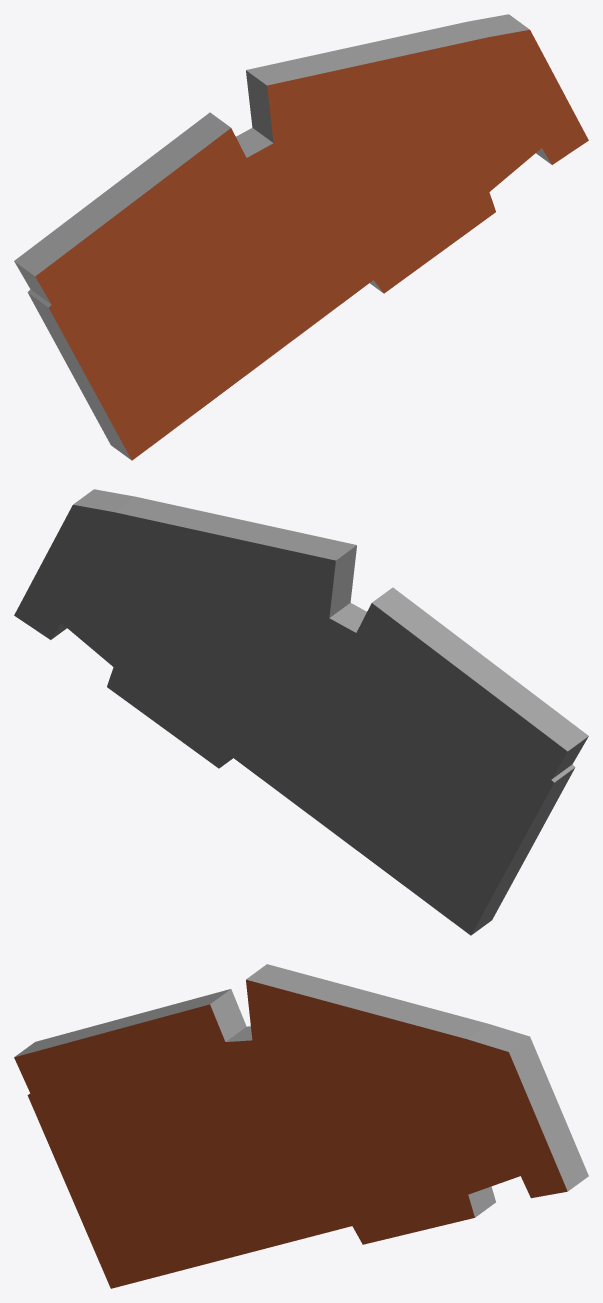
File: construction_1717_assumed_A_Casa_h6m.obj
The picture shows the model from 3 angles, top to bottom: view 1: azimuth 30°, elevation 25°; view 2: azimuth 150°, elevation 25°; view 3: azimuth 330°, elevation 25°; orthographic projection.
Parts seen in each view (by area): view 1: construction_1717_assumed_A_Casa; view 2: construction_1717_assumed_A_Casa; view 3: construction_1717_assumed_A_Casa.
Part boxes in pixels (box(x1,y1,x2,y2)): construction_1717_assumed_A_Casa: box(14, 14, 588, 460); construction_1717_assumed_A_Casa: box(14, 489, 588, 935); construction_1717_assumed_A_Casa: box(14, 964, 588, 1288).
Bounding box in the file's own units: 90.47 × 53.42 × 6.
